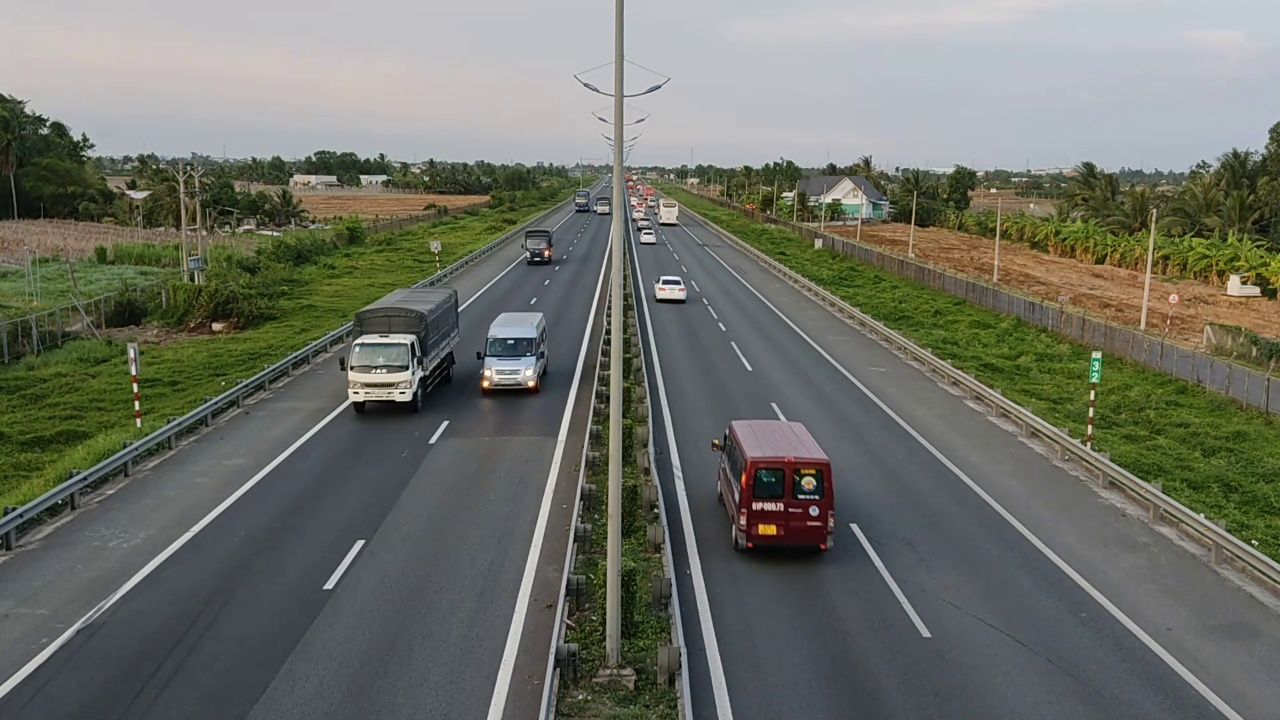car: (653, 275, 687, 303)
truck: (710, 411, 837, 553), (345, 285, 461, 414)
